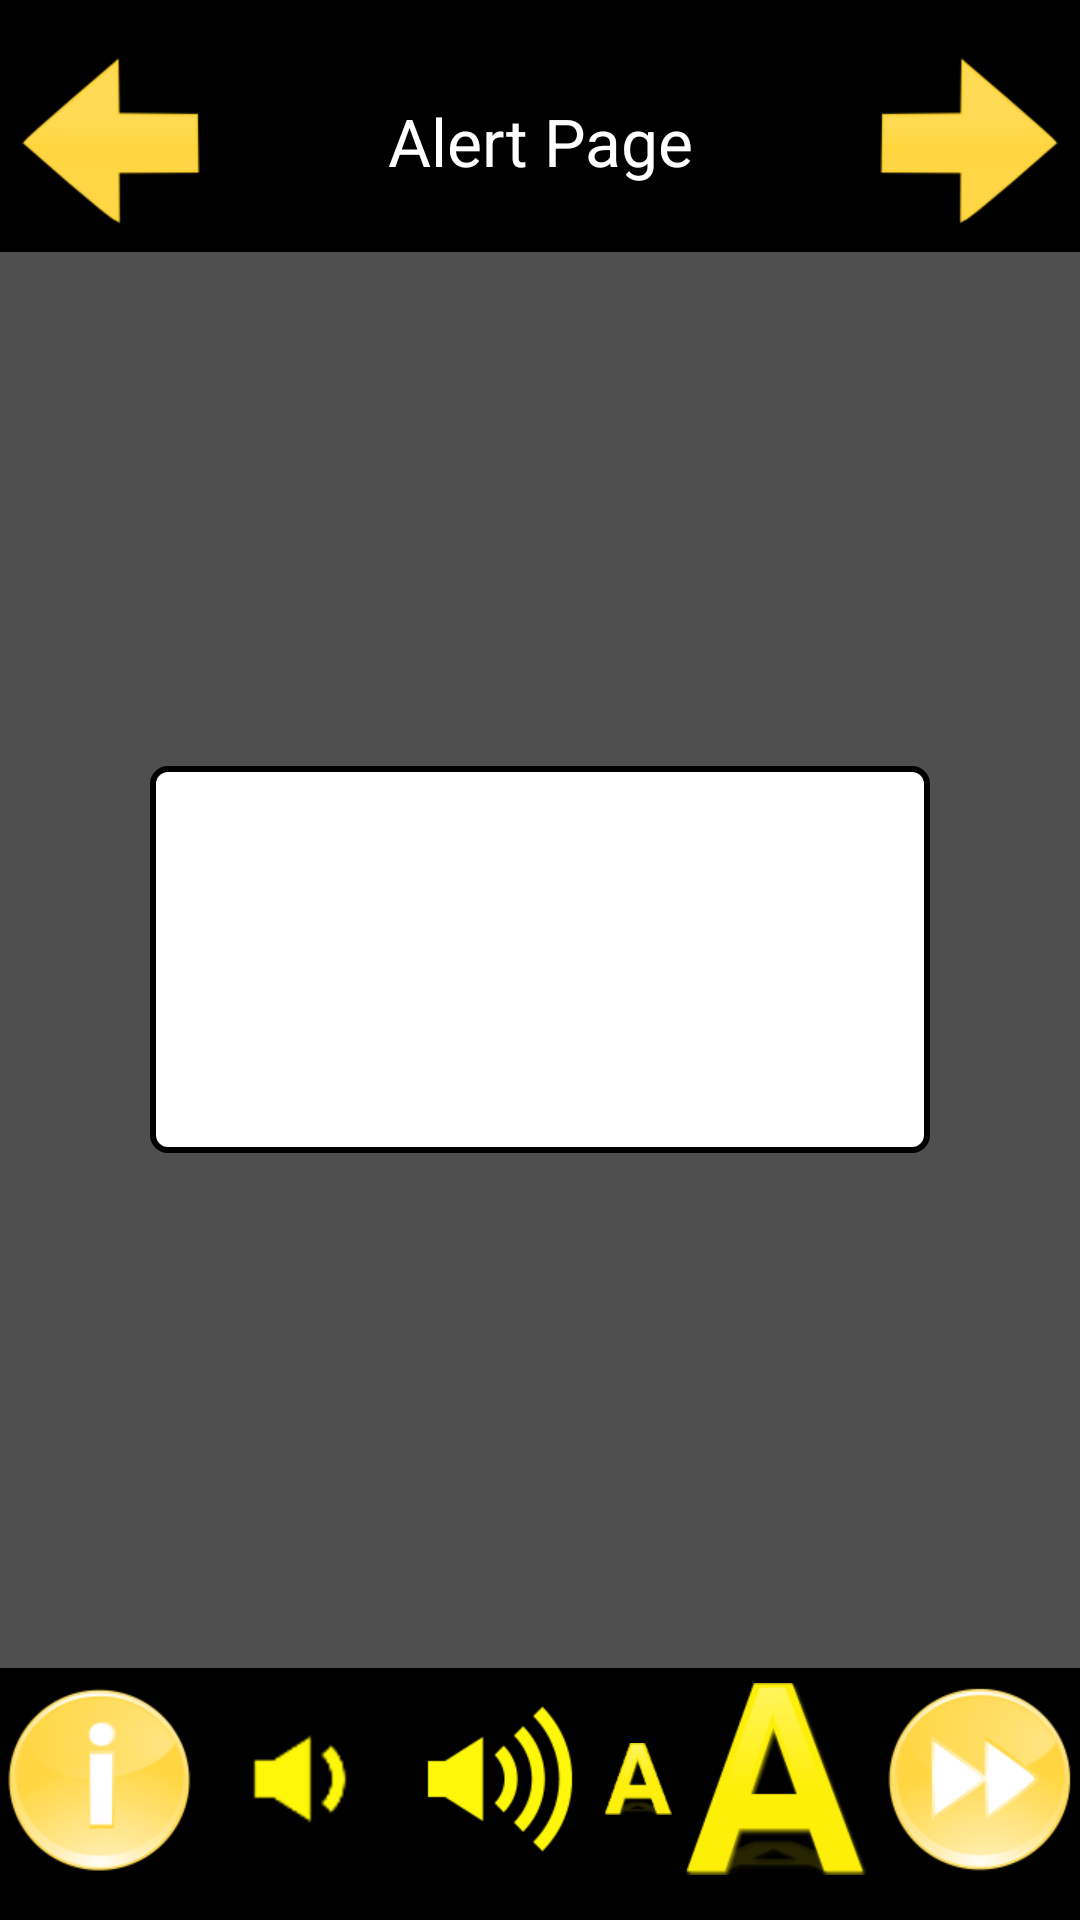

Locate icon controls on the screen. Image size 1080×1920, boxes as (x1, y1, x2, y2).
end: (888, 1688, 1071, 1871)
help: (8, 1689, 190, 1871)
next: (880, 58, 1058, 224)
previous: (22, 58, 200, 224)
vol dec: (253, 1736, 347, 1822)
vol inc: (427, 1706, 573, 1852)
